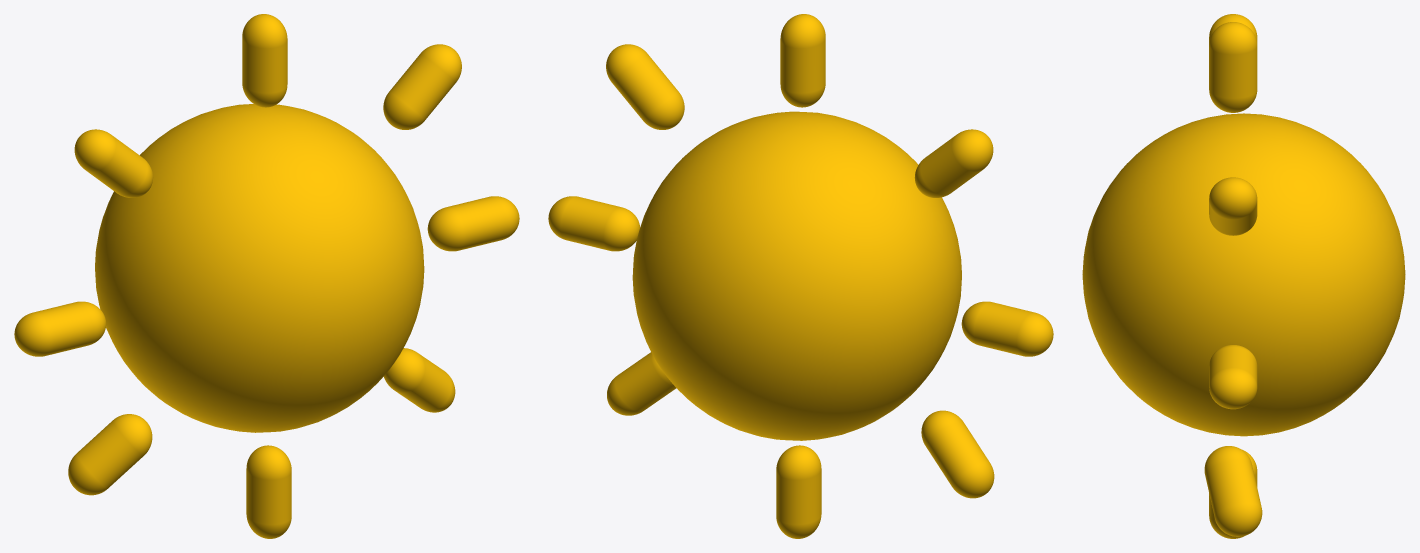
Rendered from Sunny.glb.
3 renders of one model, left to right at view 1: azimuth 30°, elevation 25°; view 2: azimuth 150°, elevation 25°; view 3: azimuth 270°, elevation 25°, orthographic. The views are drawn at different scales.
Visible parts, largest first — view 1: Object_67, Object_77, Object_69, Object_75, Object_83, Object_71, Object_79, Object_81, Object_73; view 2: Object_67, Object_69, Object_77, Object_75, Object_83, Object_79, Object_71, Object_81, Object_73; view 3: Object_67, Object_73, Object_83, Object_71, Object_69, Object_81, Object_75.
Part boxes in pixels (box(x1,y1,x2,y2)): Object_67: box(95, 104, 424, 432); Object_77: box(68, 414, 152, 495); Object_69: box(383, 44, 461, 129); Object_75: box(246, 445, 291, 538); Object_83: box(242, 14, 287, 107); Object_71: box(427, 196, 519, 251); Object_79: box(14, 301, 106, 356); Object_81: box(74, 129, 153, 197); Object_73: box(383, 348, 455, 412); Object_67: box(632, 111, 961, 440); Object_69: box(606, 44, 684, 129); Object_77: box(921, 410, 994, 498); Object_75: box(776, 445, 821, 538); Object_83: box(780, 14, 825, 107); Object_79: box(961, 301, 1053, 356); Object_71: box(548, 196, 640, 251); Object_81: box(914, 129, 993, 197); Object_73: box(607, 352, 676, 415); Object_67: box(1082, 113, 1405, 436); Object_73: box(1204, 446, 1262, 536); Object_83: box(1209, 22, 1257, 112); Object_71: box(1209, 345, 1257, 409); Object_69: box(1209, 177, 1257, 235); Object_81: box(1209, 14, 1257, 44); Object_75: box(1209, 449, 1257, 538).
Size of the model in its own units: 0.2686 by 0.2686 by 0.1538.
Materials: 2 (2 with a texture image).
